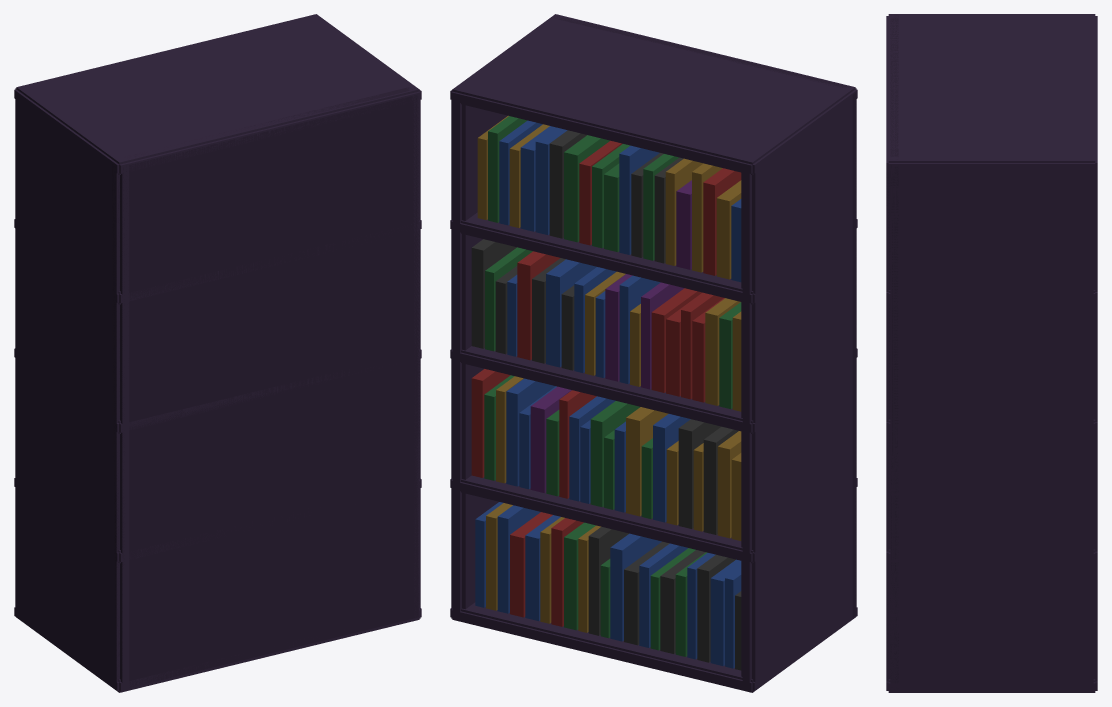
The model's file is obsidian_bookcase_v0.glb.
3 renders of one model, left to right at view 1: azimuth 30°, elevation 25°; view 2: azimuth 150°, elevation 25°; view 3: azimuth 270°, elevation 25°, orthographic.
Parts seen in each view (by area): view 1: obsidian_bookcase_v0; view 2: obsidian_bookcase_v0; view 3: obsidian_bookcase_v0.
Part boxes in pixels (bbox=[...]): obsidian_bookcase_v0: bbox=[14, 14, 421, 692]; obsidian_bookcase_v0: bbox=[450, 14, 857, 692]; obsidian_bookcase_v0: bbox=[886, 14, 1097, 692].
Bounding box in the file's own units: 1.5 × 2.5 × 0.9.
